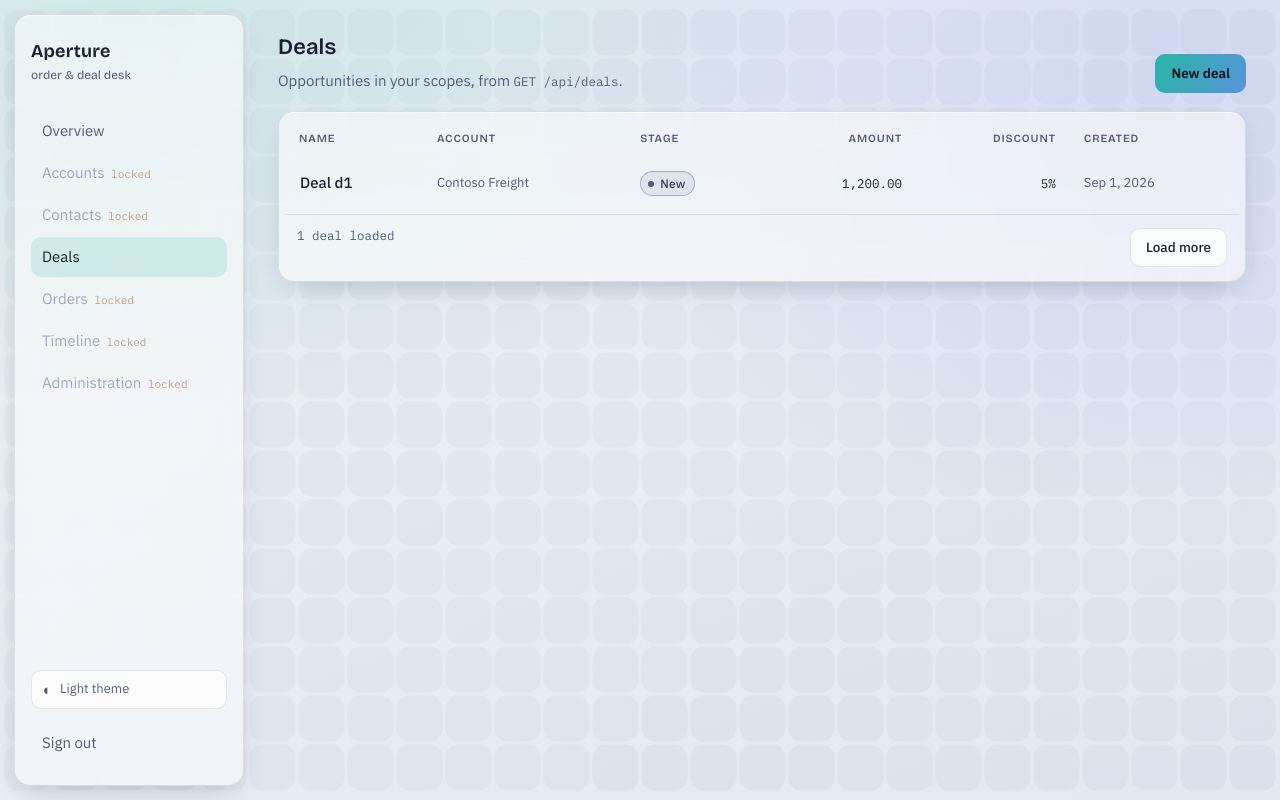
it: Deals grid › Given a grid with a NextCursor, when "load more" is used, then the next page appends and a null cursor hides the control (edge 11)
expect the text "Deal d1" is shown: met, box [285,158,423,208]
Click the button "Load more" at (1178, 247), box [1130,228,1227,267]
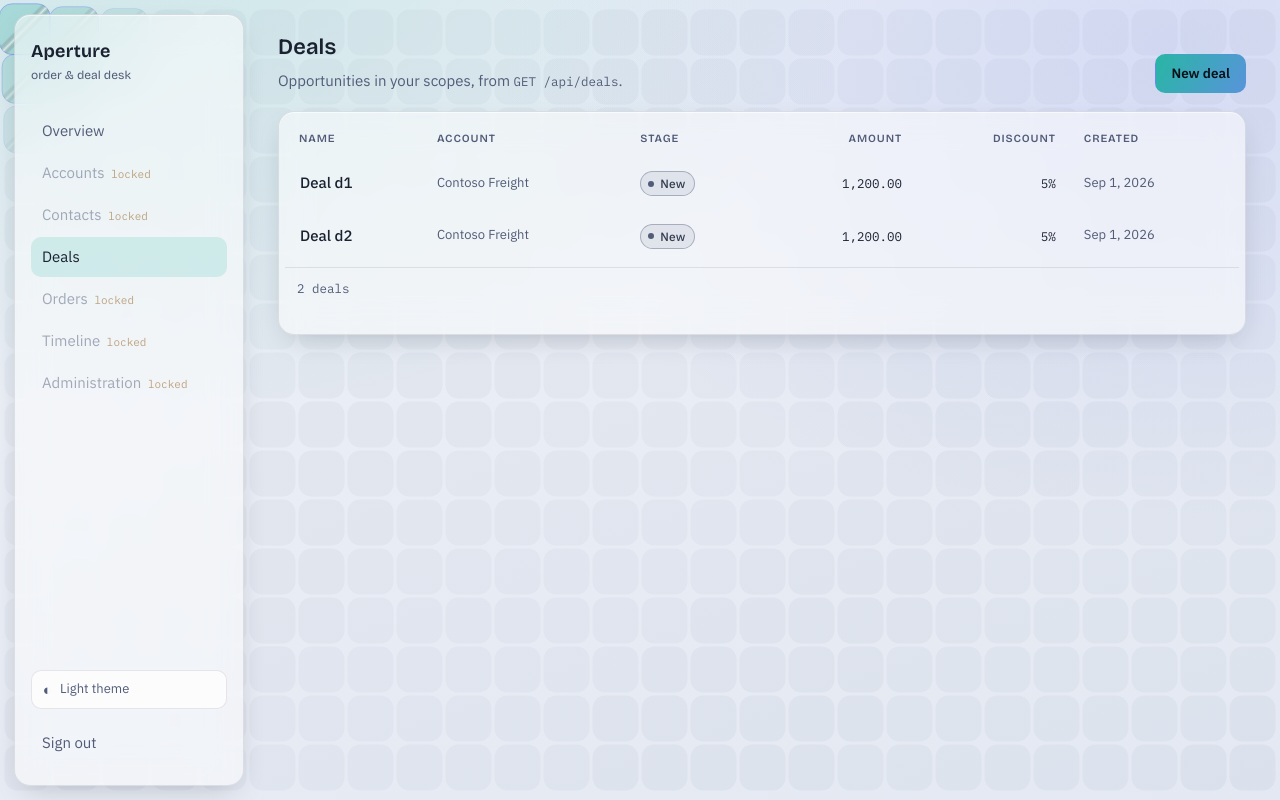
expect the text "Deal d1" is shown: met, box [285,158,423,208]
expect the text "Deal d2" is shown: met, box [285,210,423,261]
expect the button "Load more" is gone: met
